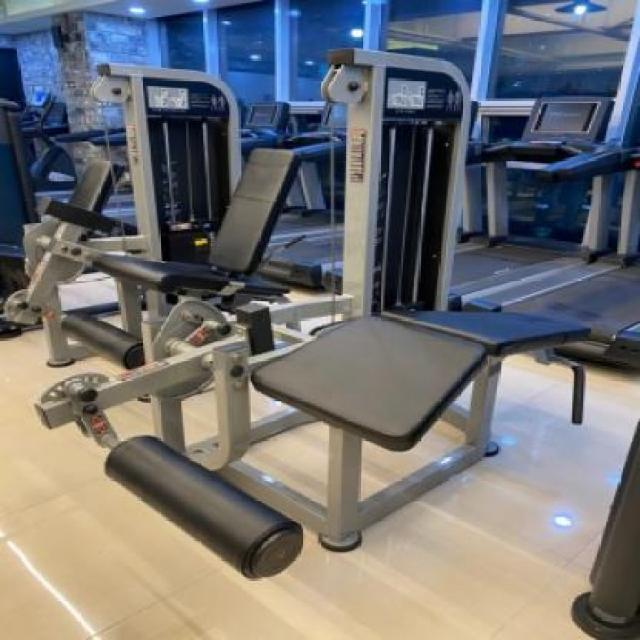reg curl machine: (36, 46, 604, 586)
